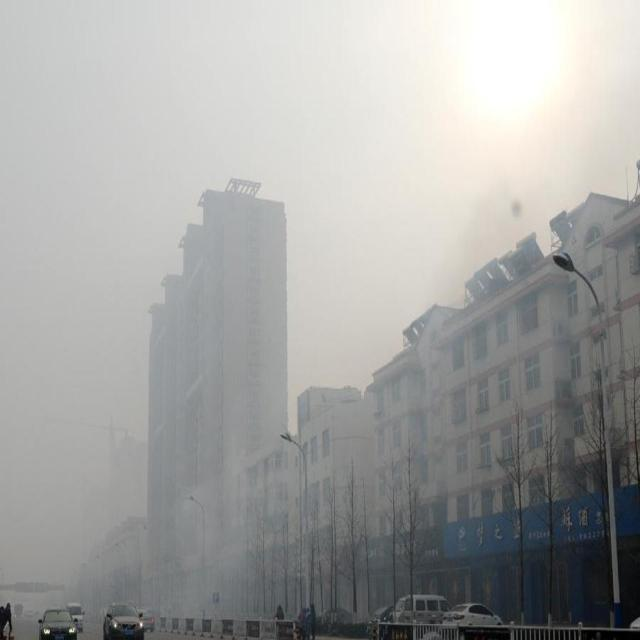car: (445, 595, 505, 626), (102, 603, 146, 639), (38, 608, 79, 640), (407, 597, 451, 624), (392, 592, 407, 622), (138, 605, 156, 628), (67, 602, 83, 626)
